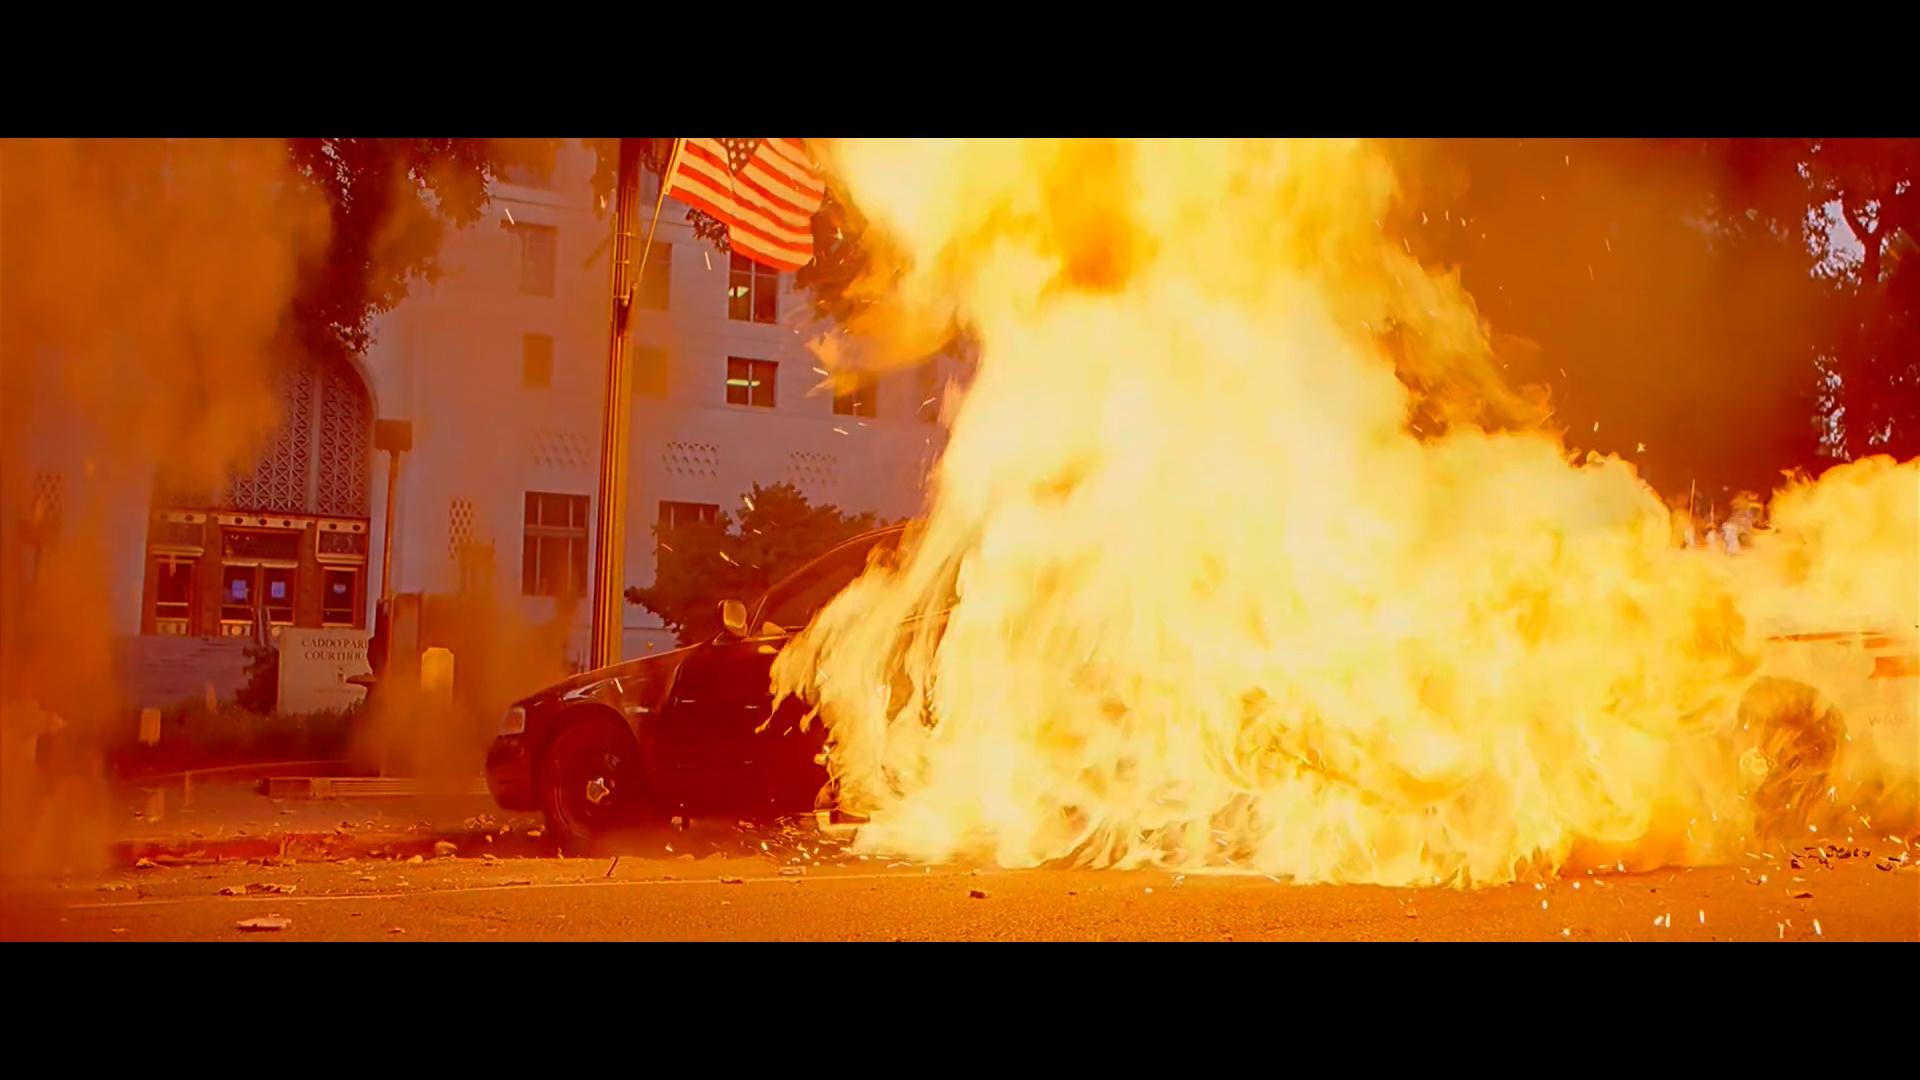fire: (753, 138, 1920, 873)
